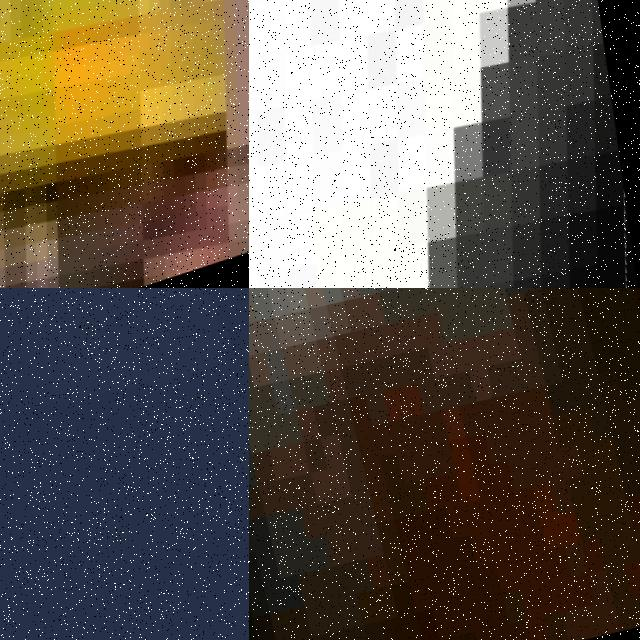0: (0, 0, 249, 288)
drone: (249, 0, 640, 288)
